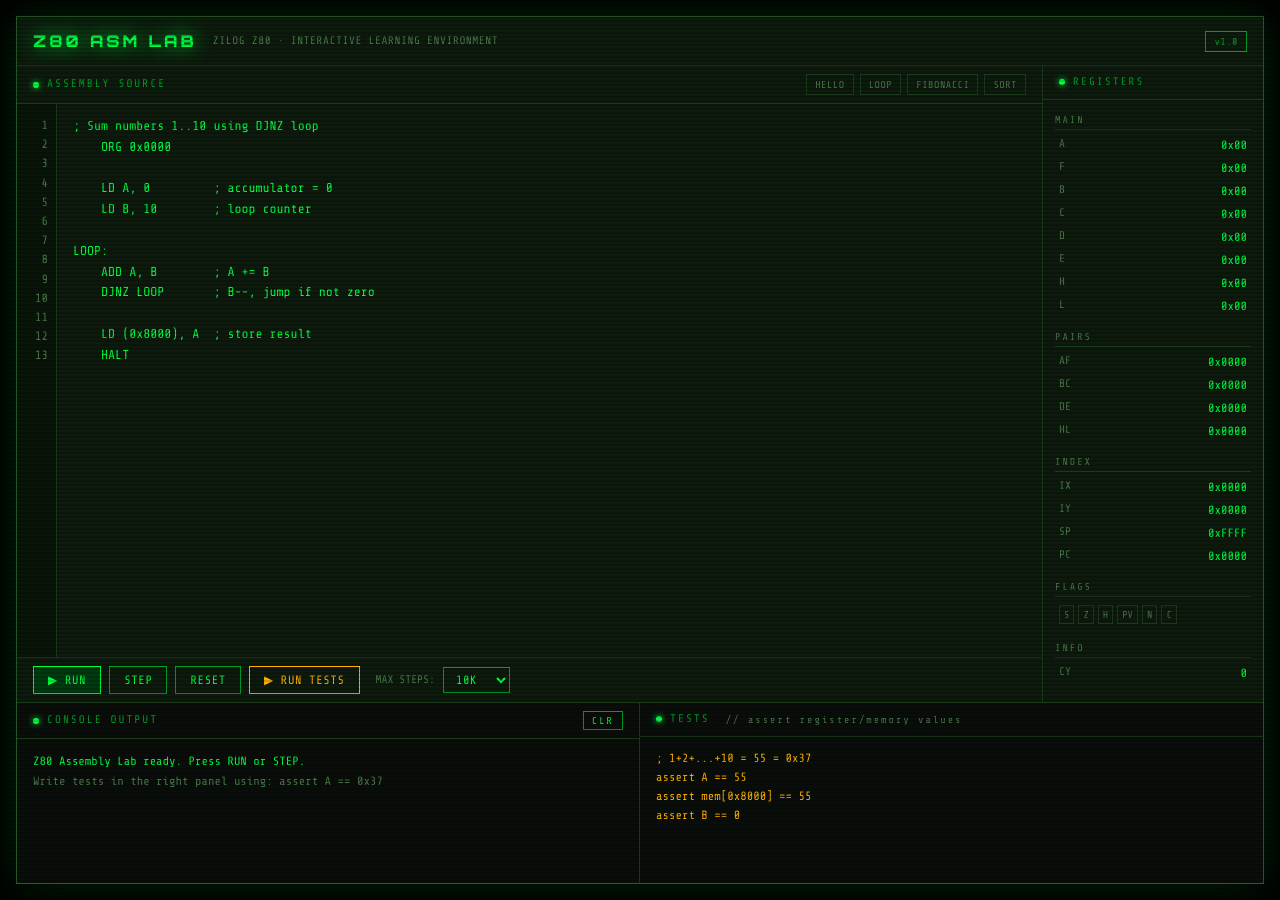
App - RUN button › clicking RUN shows Assembled and Halted messages in console
The width and height of the screenshot is (1280, 900).
Click the button "▶ RUN": (67, 680) 33,666 -> 101,694
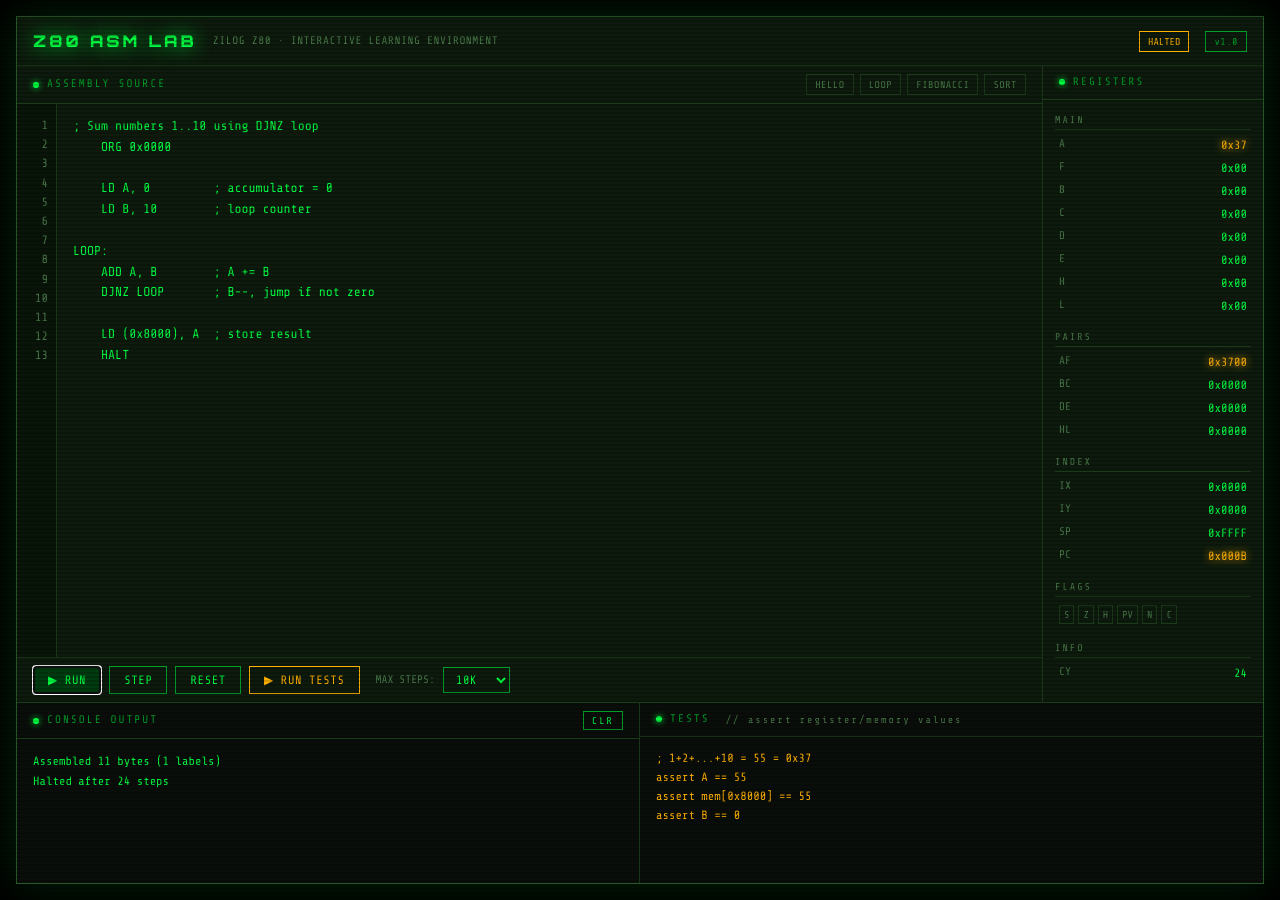
Result: the text "Assembled 11 bytes (1 labels)" is shown at 33,754 -> 221,768
Result: the text "Halted after 24 steps" is shown at 33,774 -> 169,788
